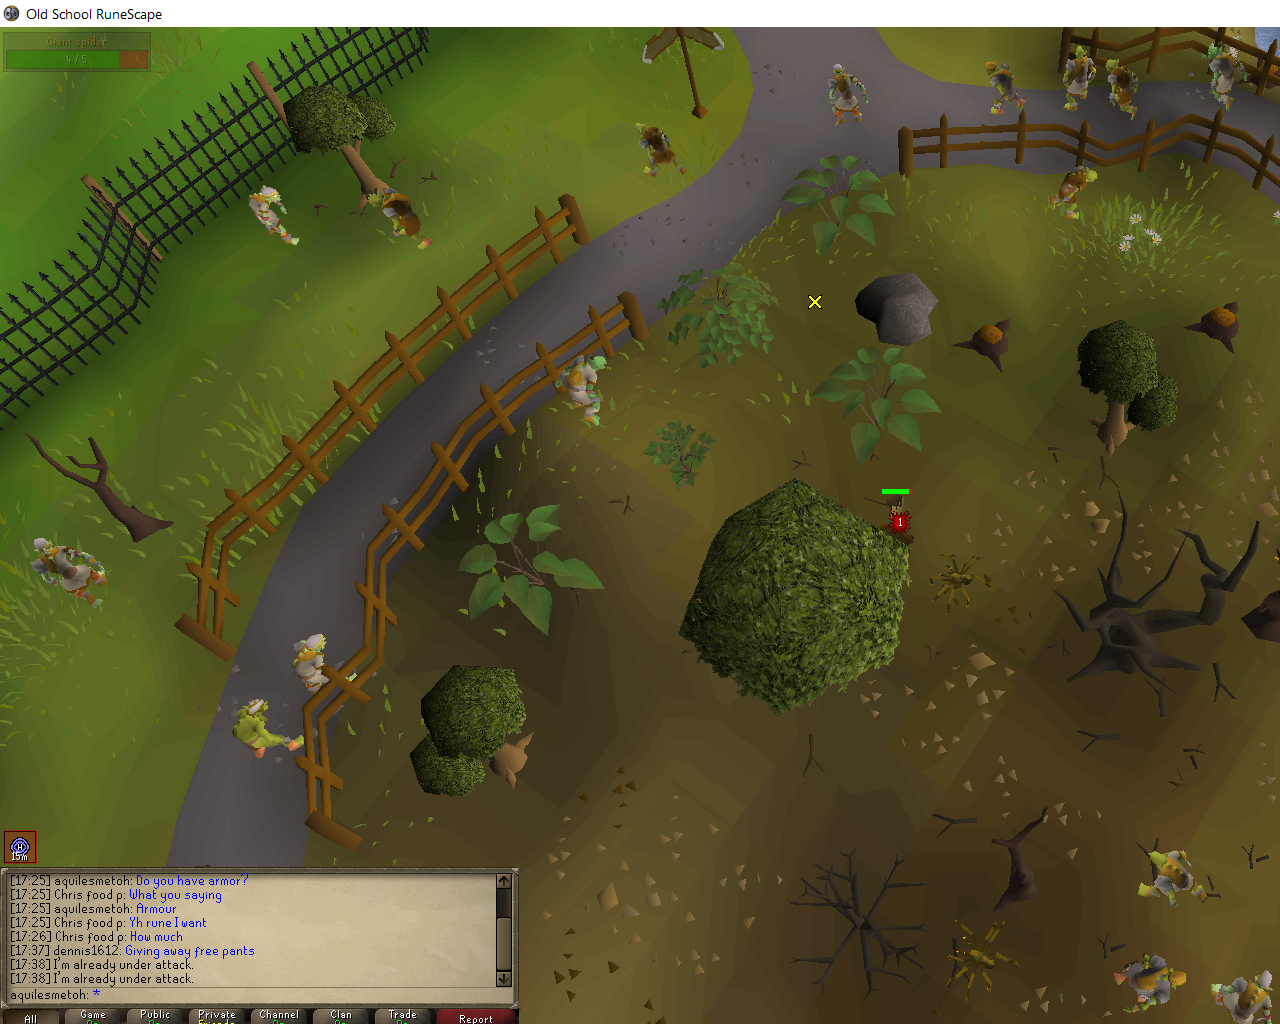Goblin: (28, 534, 110, 610), (1106, 947, 1187, 1014), (224, 698, 309, 760), (290, 631, 364, 699), (1139, 844, 1210, 908), (1209, 961, 1280, 1024), (365, 188, 430, 254), (553, 353, 608, 430), (241, 185, 302, 248), (1202, 43, 1250, 111), (630, 122, 685, 181), (825, 59, 870, 127), (1048, 164, 1097, 222), (1104, 57, 1147, 123), (1057, 44, 1098, 112), (985, 61, 1027, 117)
